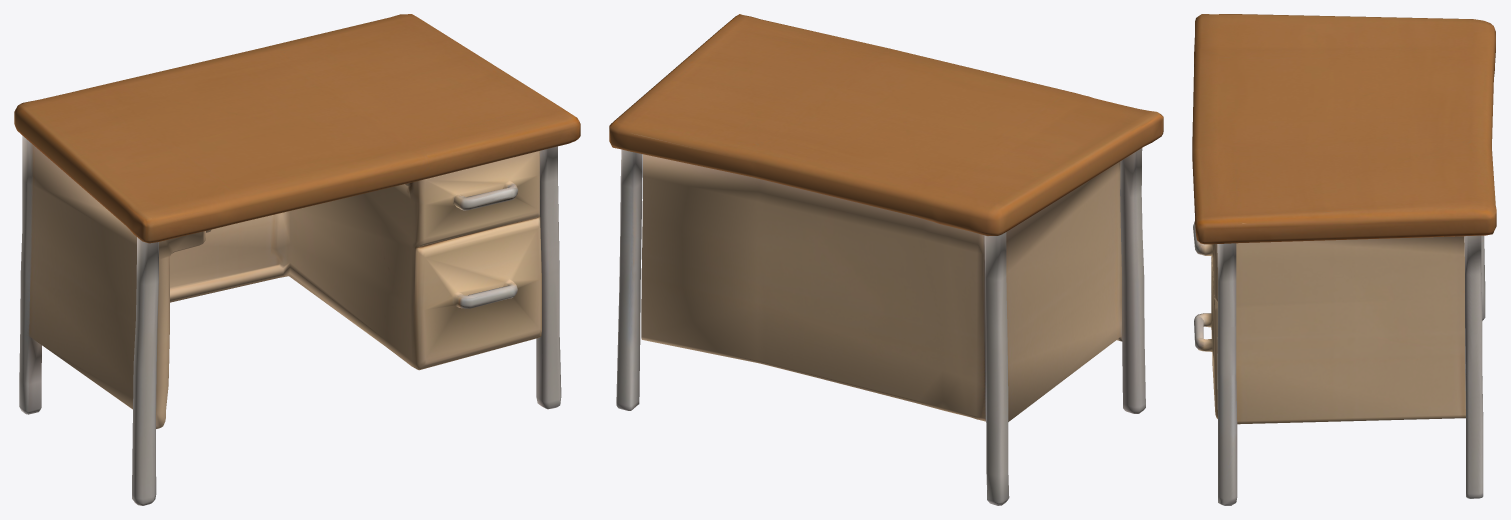
The model's file is tripo_convert_61f47398-e4b5-4cdc-bb05-2df54be5bc7d.fbx.
3 renders of one model, left to right at view 1: azimuth 30°, elevation 25°; view 2: azimuth 150°, elevation 25°; view 3: azimuth 270°, elevation 25°, orthographic. The views are drawn at different scales.
Visible parts, largest first — view 1: tripo_node_61f47398; view 2: tripo_node_61f47398; view 3: tripo_node_61f47398.
Part boxes in pixels (left/top/right/bottom): tripo_node_61f47398: left=14, top=14, right=580, bottom=505; tripo_node_61f47398: left=609, top=14, right=1163, bottom=505; tripo_node_61f47398: left=1192, top=14, right=1496, bottom=505.
Size of the model in its own units: 0.998 by 0.666 by 0.6191.
